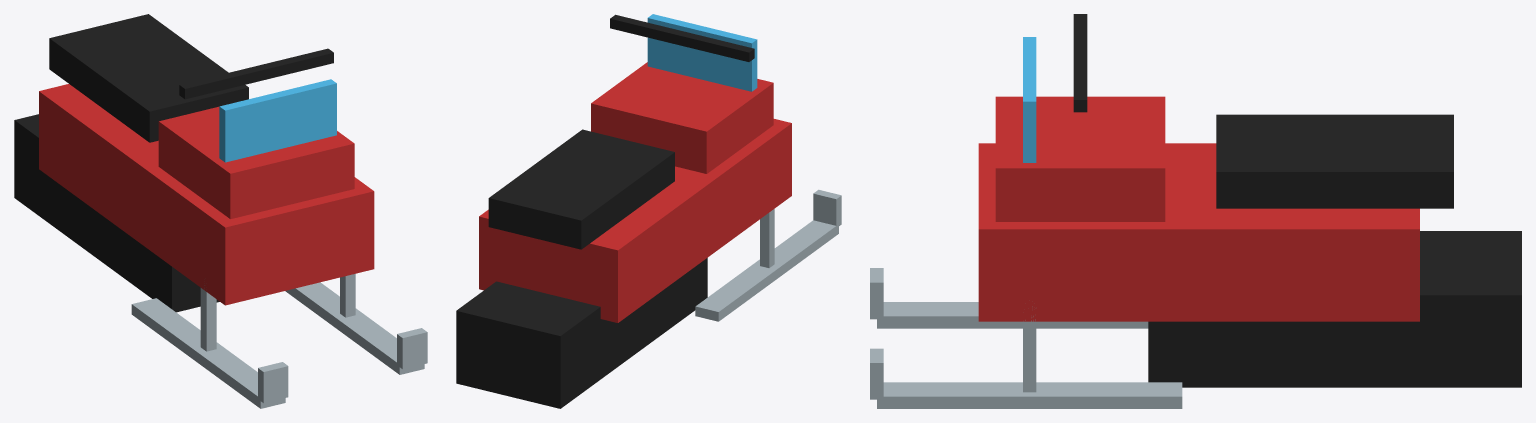
File: snoskoter.glb
The picture shows the model from 3 angles, left to right: view 1: azimuth 30°, elevation 25°; view 2: azimuth 150°, elevation 25°; view 3: azimuth 270°, elevation 25°; orthographic projection. The views are drawn at different scales.
Visible parts, largest first — view 1: snoskoter; view 2: snoskoter; view 3: snoskoter.
Boxes of the visible parts, x1=… form: snoskoter: x1=14, y1=14, x2=427, y2=408; snoskoter: x1=456, y1=14, x2=841, y2=408; snoskoter: x1=870, y1=14, x2=1521, y2=408.
Bounding box in the file's own units: 0.6601 × 0.9899 × 1.92.
